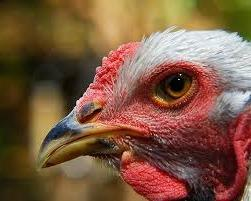AbNormal: (77, 39, 140, 108)
